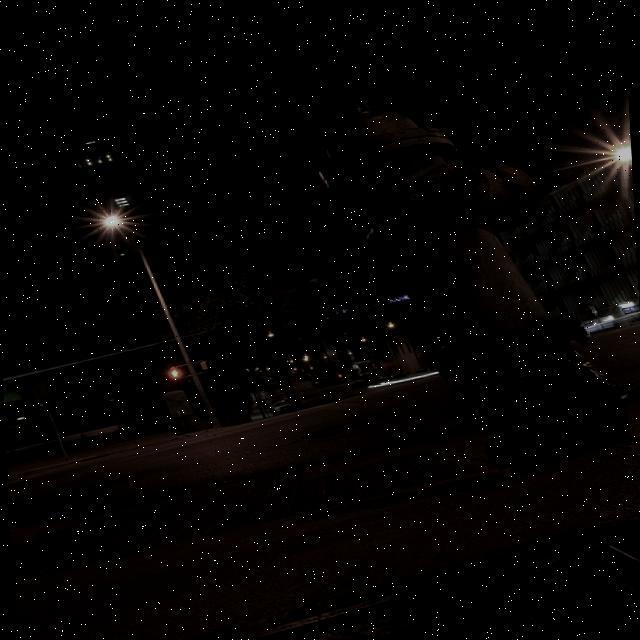fire_hydrant: (312, 77, 633, 480)
